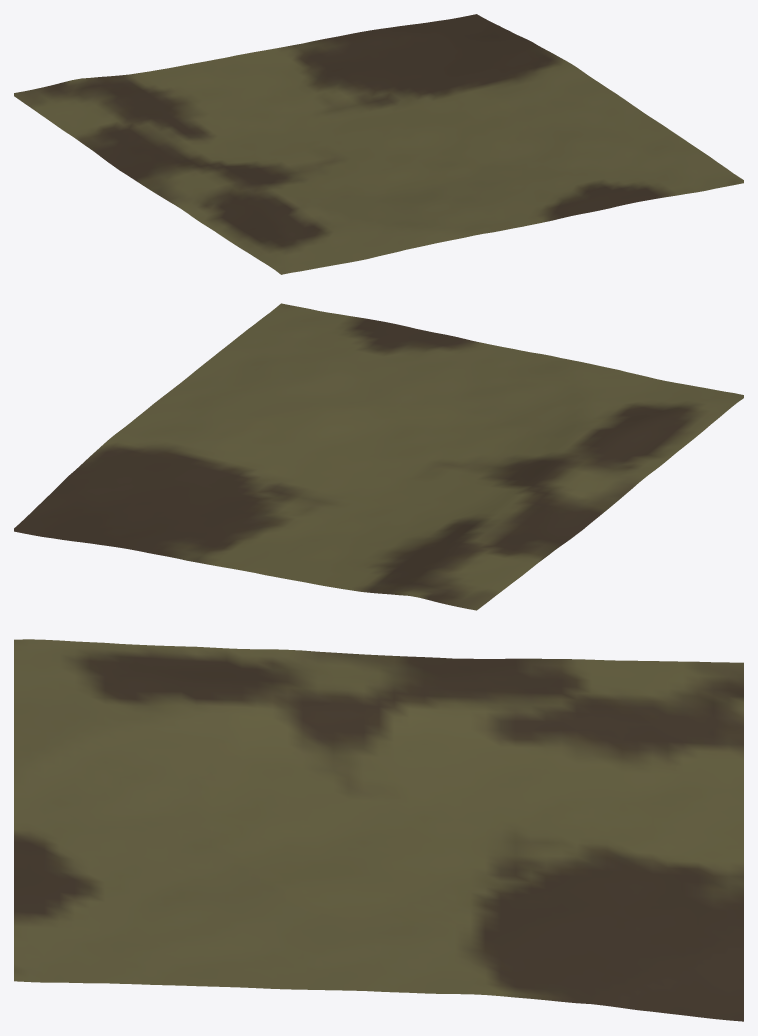
File: land_m_00_10.glb
3 renders of one model, top to bottom at view 1: azimuth 30°, elevation 25°; view 2: azimuth 150°, elevation 25°; view 3: azimuth 270°, elevation 25°, orthographic. The views are drawn at different scales.
Visible parts, largest first — view 1: land_m_00_10; view 2: land_m_00_10; view 3: land_m_00_10.
Boxes of the visible parts, left/top/right/bottom form: land_m_00_10: left=14, top=14, right=743, bottom=274; land_m_00_10: left=14, top=303, right=743, bottom=610; land_m_00_10: left=14, top=639, right=743, bottom=1021.
Size of the model in its own units: 960 by 107 by 960.
